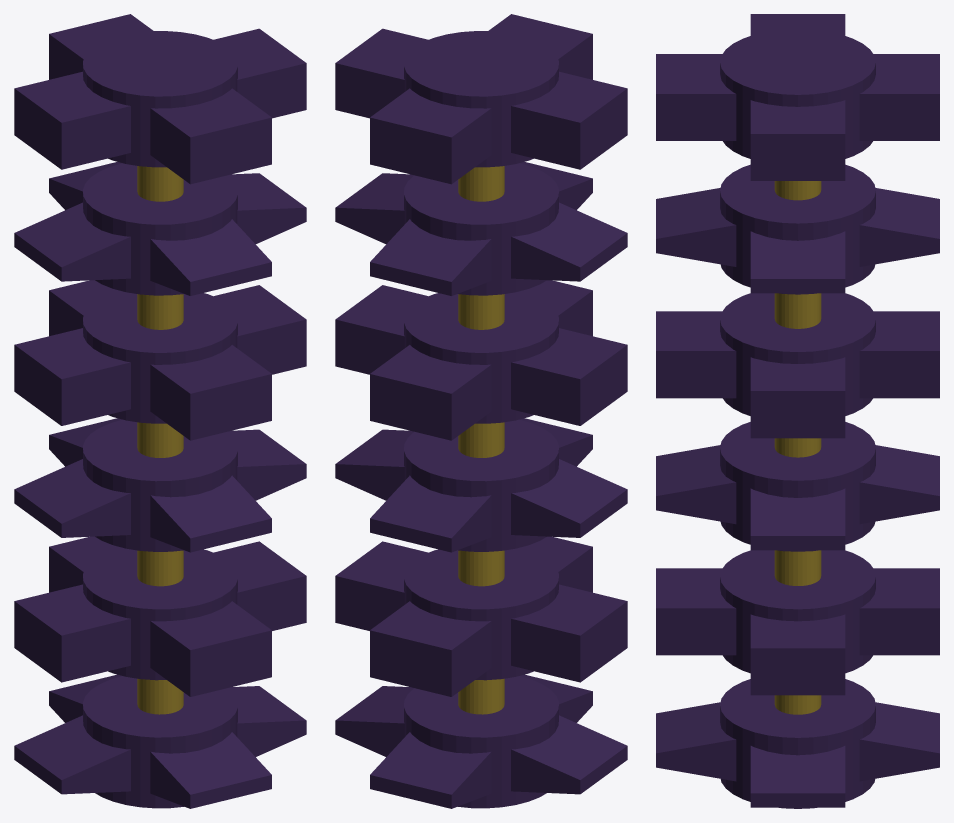
The model's file is tower_1.fbx.
3 views of the same model, side by side, from view 1: azimuth 30°, elevation 25°; view 2: azimuth 150°, elevation 25°; view 3: azimuth 270°, elevation 25° (orthographic).
Visible parts, largest first — view 1: tower_base.004; view 2: tower_base.004; view 3: tower_base.004.
Boxes of the visible parts, bbox=[...] form: tower_base.004: bbox=[14, 14, 306, 808]; tower_base.004: bbox=[335, 14, 627, 808]; tower_base.004: bbox=[656, 14, 939, 808].
Size of the model in its own units: 600 by 1666 by 600.
